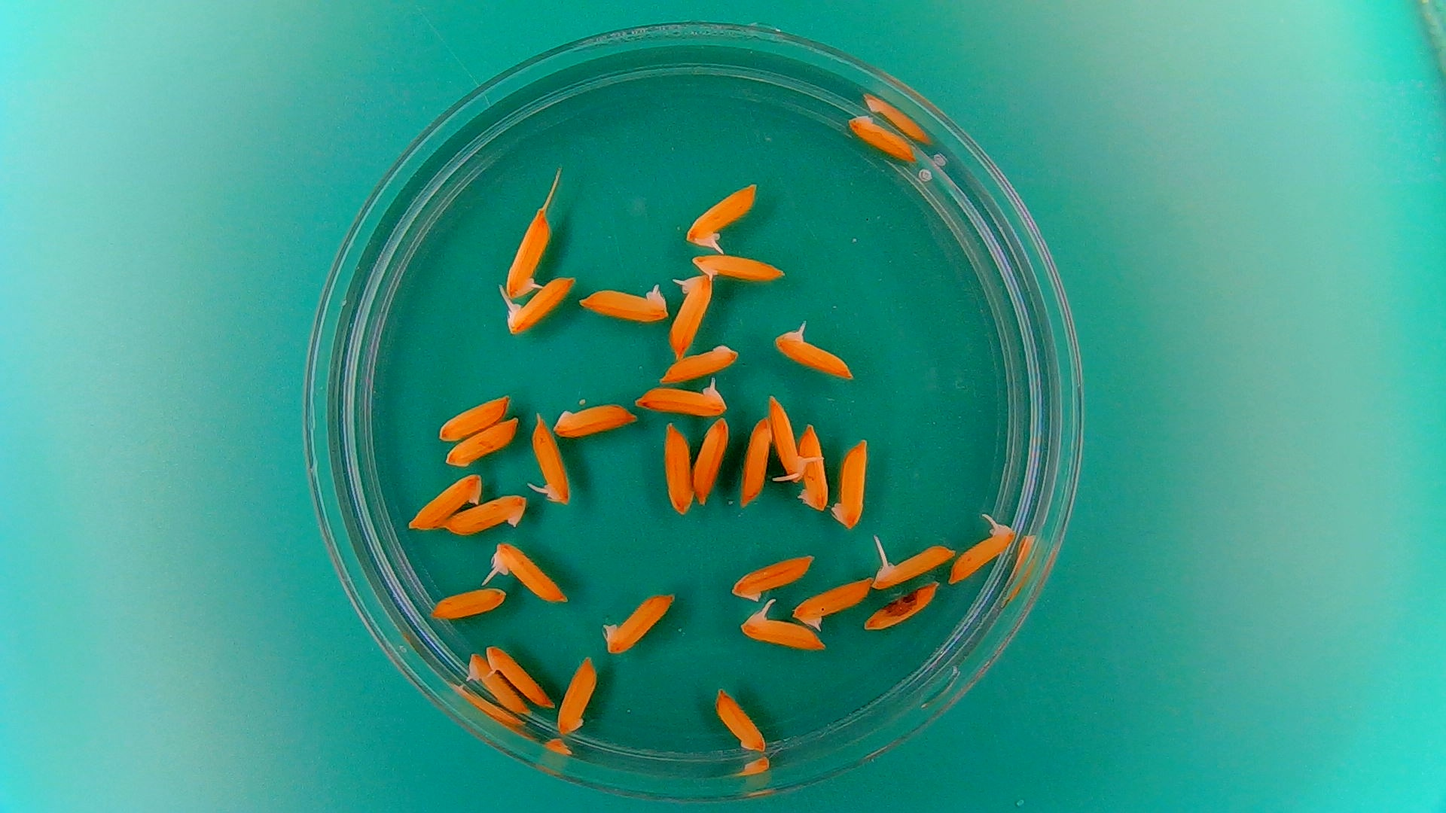no: (599, 587, 679, 656), (480, 641, 556, 711), (405, 467, 485, 533), (791, 574, 875, 631), (862, 580, 943, 636), (444, 414, 523, 469), (464, 653, 531, 717), (441, 490, 530, 538), (712, 684, 770, 755), (731, 554, 818, 601), (829, 434, 871, 531), (844, 108, 918, 163), (437, 391, 513, 443), (555, 653, 599, 737), (691, 415, 731, 507), (657, 341, 740, 382), (739, 415, 775, 508), (554, 402, 643, 439), (796, 420, 830, 516), (687, 250, 786, 282), (428, 584, 508, 623), (663, 419, 694, 516)
yes: (491, 542, 569, 606), (777, 324, 858, 382), (501, 209, 551, 300), (685, 182, 757, 244), (948, 523, 1014, 585), (507, 273, 573, 335), (669, 273, 712, 358), (766, 397, 808, 483), (869, 544, 948, 589), (530, 416, 568, 504), (636, 380, 725, 417), (582, 289, 672, 324), (744, 617, 827, 653)
